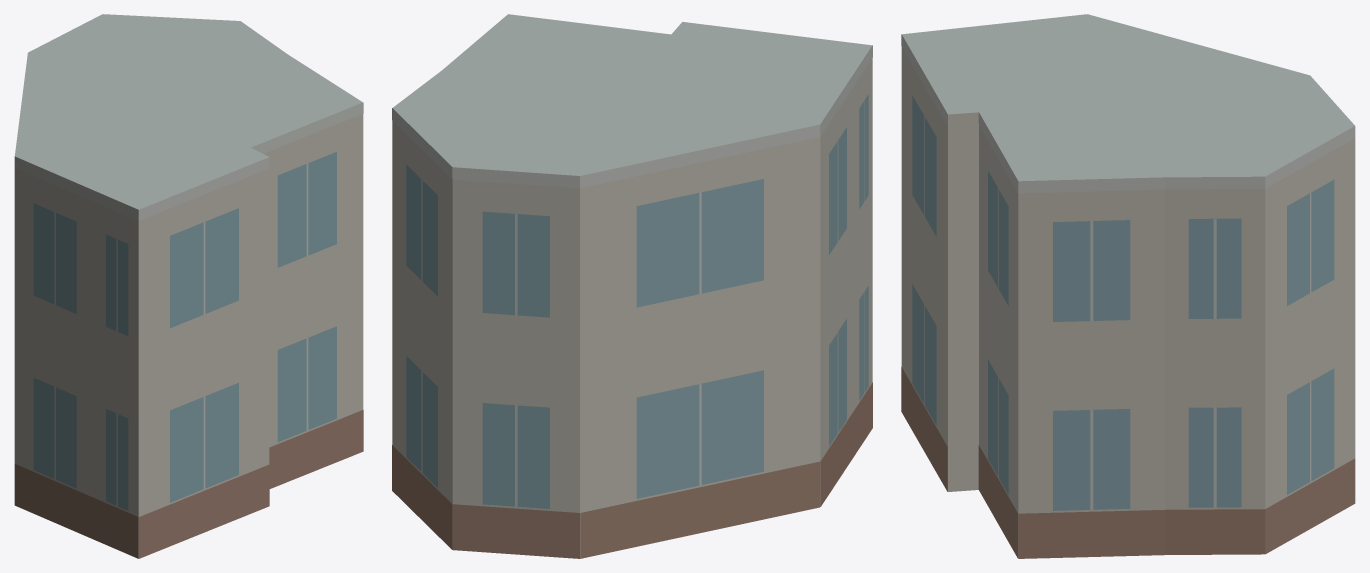
File: survey-upis-32516477.glb
3 views of the same model, side by side, from view 1: azimuth 30°, elevation 25°; view 2: azimuth 150°, elevation 25°; view 3: azimuth 270°, elevation 25° (orthographic). The views are drawn at different scales.
Visible parts, largest first — view 1: survey-upis-32516477.tmp; view 2: survey-upis-32516477.tmp; view 3: survey-upis-32516477.tmp.
Part boxes in pixels (x1=…): survey-upis-32516477.tmp: x1=14, y1=14, x2=363, y2=558; survey-upis-32516477.tmp: x1=392, y1=14, x2=872, y2=558; survey-upis-32516477.tmp: x1=901, y1=14, x2=1355, y2=558.
Bounding box in the file's own units: 7.23 × 7.6 × 8.28.
